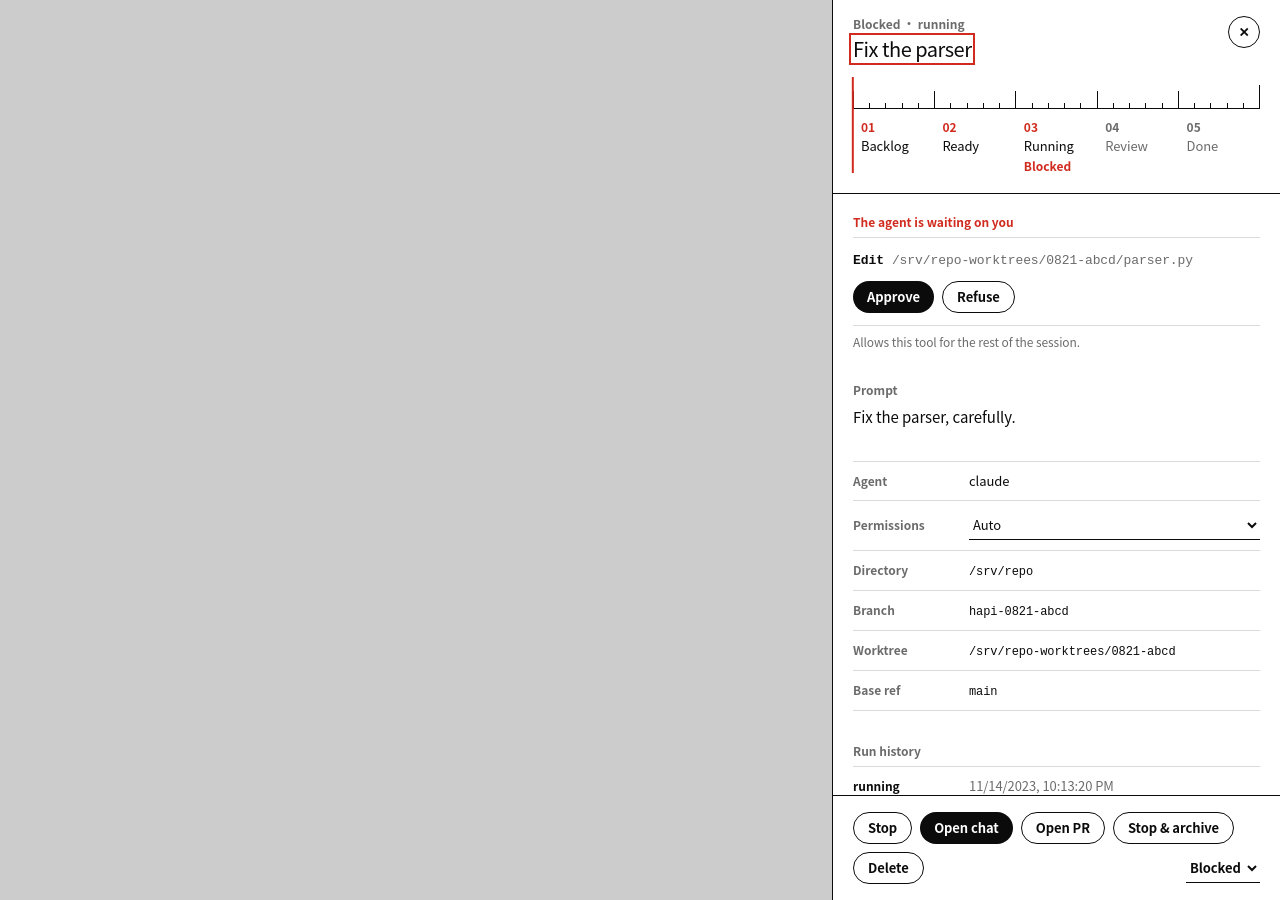
TaskDetail › says why an answer did not go through, in the hub's words
Expected: the heading "The agent is waiting on you" is shown, [853,213,1014,230]
Click the button "Approve".
click(894, 297)  # box [853,281,934,313]
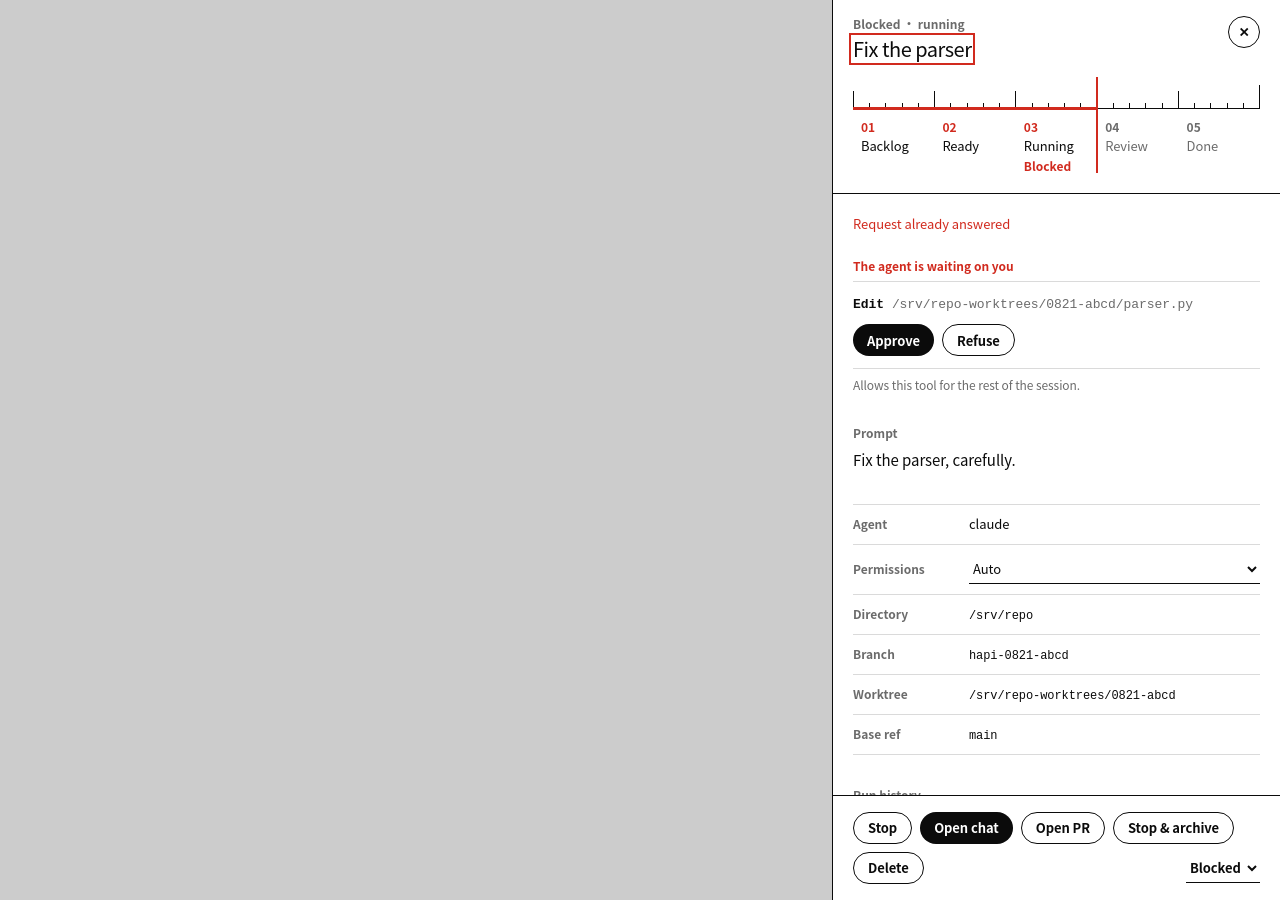
Expected: the message reads "Request already answered", [853,214,1010,233]
